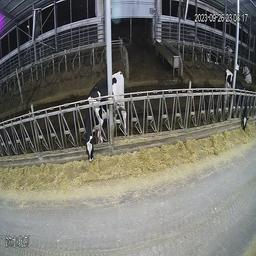cow: (83, 68, 122, 165), (223, 66, 249, 137), (205, 49, 220, 68), (241, 61, 252, 84)
